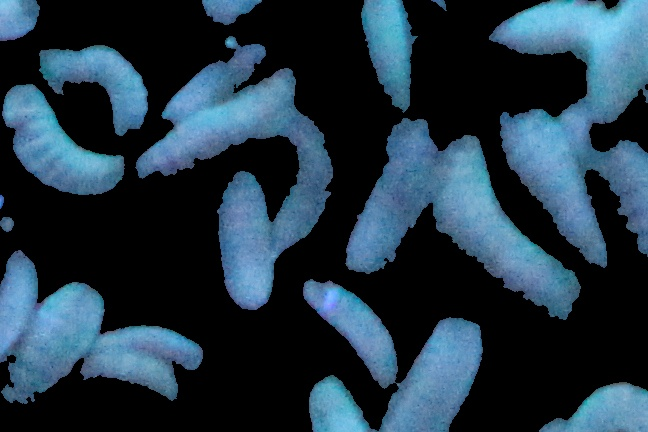larvae: (425, 135, 583, 316), (130, 59, 309, 190), (346, 115, 453, 284), (499, 108, 610, 263), (1, 85, 133, 198), (210, 159, 283, 319), (307, 271, 410, 384), (395, 310, 484, 432), (15, 279, 96, 408), (28, 41, 148, 126), (570, 1, 648, 122), (353, 1, 426, 120), (269, 109, 331, 248), (605, 132, 648, 268), (491, 6, 605, 53), (91, 317, 201, 364), (86, 350, 186, 400), (1, 246, 39, 360)
